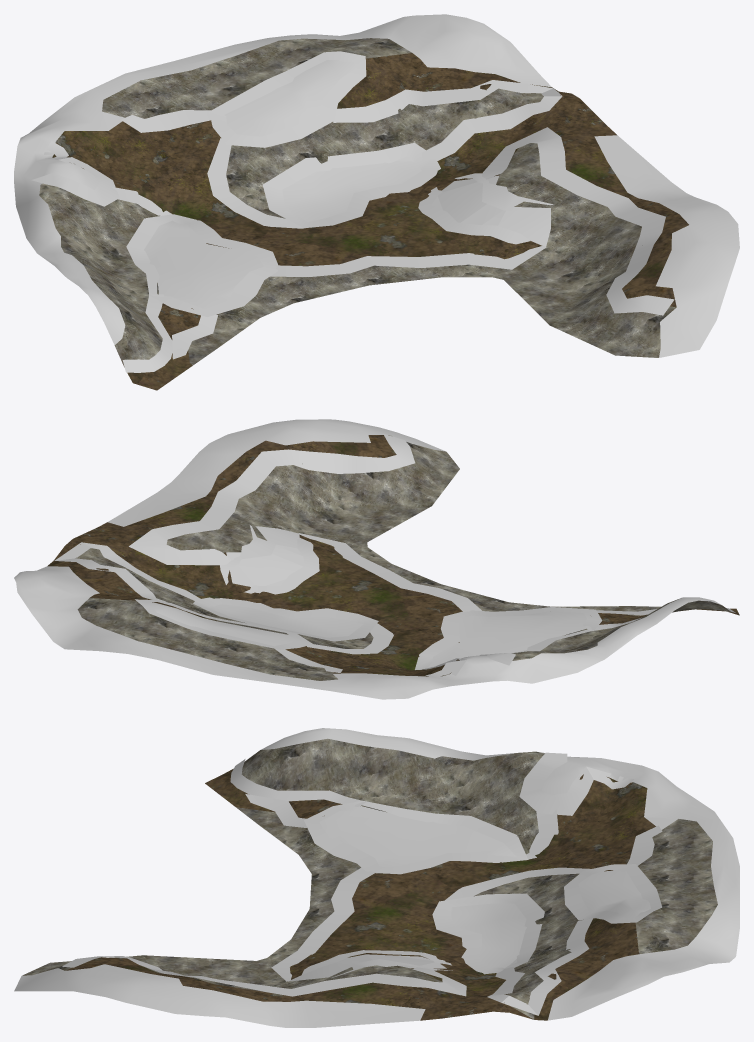
The model's file is OptimisedTerrainExport.fbx.
3 renders of one model, top to bottom at view 1: azimuth 30°, elevation 25°; view 2: azimuth 150°, elevation 25°; view 3: azimuth 270°, elevation 25°, orthographic. The views are drawn at different scales.
Parts seen in each view (by area): view 1: OptimisedTerrain1, DirtEdge7, DirtEdge6, GrassEdge2, GrassEdge1, GrassEdge4, DirtEdge3, GrassEdge3, DirtEdge4, GrassEdge5, DirtEdge2, DirtEdge5 (+1 smaller); view 2: OptimisedTerrain1, DirtEdge7, GrassEdge4, GrassEdge2, GrassEdge3, DirtEdge6, DirtEdge3, GrassEdge1, DirtEdge4, GrassEdge5; view 3: OptimisedTerrain1, GrassEdge4, GrassEdge2, DirtEdge7, GrassEdge5, DirtEdge6, DirtEdge3, GrassEdge1, DirtEdge2, GrassEdge3, DirtEdge4, DirtEdge1 (+2 smaller).
Boxes of the visible parts, x1,y1,x2,y2 form: OptimisedTerrain1: (14, 14, 739, 390); DirtEdge7: (482, 127, 674, 315); DirtEdge6: (333, 80, 562, 161); GrassEdge2: (262, 143, 440, 228); GrassEdge1: (209, 51, 366, 147); GrassEdge4: (126, 214, 277, 316); DirtEdge3: (270, 246, 546, 276); GrassEdge3: (418, 173, 553, 244); DirtEdge4: (207, 138, 305, 228); GrassEdge5: (31, 141, 119, 206); DirtEdge2: (122, 293, 172, 372); DirtEdge5: (121, 110, 210, 132); OptimisedTerrain1: (14, 419, 739, 699); DirtEdge7: (129, 433, 415, 565); GrassEdge4: (415, 607, 602, 669); GrassEdge2: (193, 597, 378, 641); GrassEdge3: (220, 525, 319, 594); DirtEdge6: (54, 542, 209, 618); DirtEdge3: (298, 533, 481, 611); GrassEdge1: (135, 599, 312, 649); DirtEdge4: (307, 623, 393, 654); GrassEdge5: (425, 653, 515, 678); OptimisedTerrain1: (14, 728, 739, 1027); GrassEdge4: (304, 800, 528, 874); GrassEdge2: (432, 893, 544, 974); DirtEdge7: (62, 956, 466, 996); GrassEdge5: (519, 752, 634, 815); DirtEdge6: (487, 918, 592, 1015); DirtEdge3: (271, 867, 376, 981); GrassEdge1: (564, 864, 662, 923); DirtEdge2: (230, 759, 365, 806); GrassEdge3: (302, 950, 452, 977); DirtEdge4: (445, 867, 590, 900); DirtEdge1: (245, 794, 306, 827).
Size of the model in its own units: 4834 by 554 by 5314.
